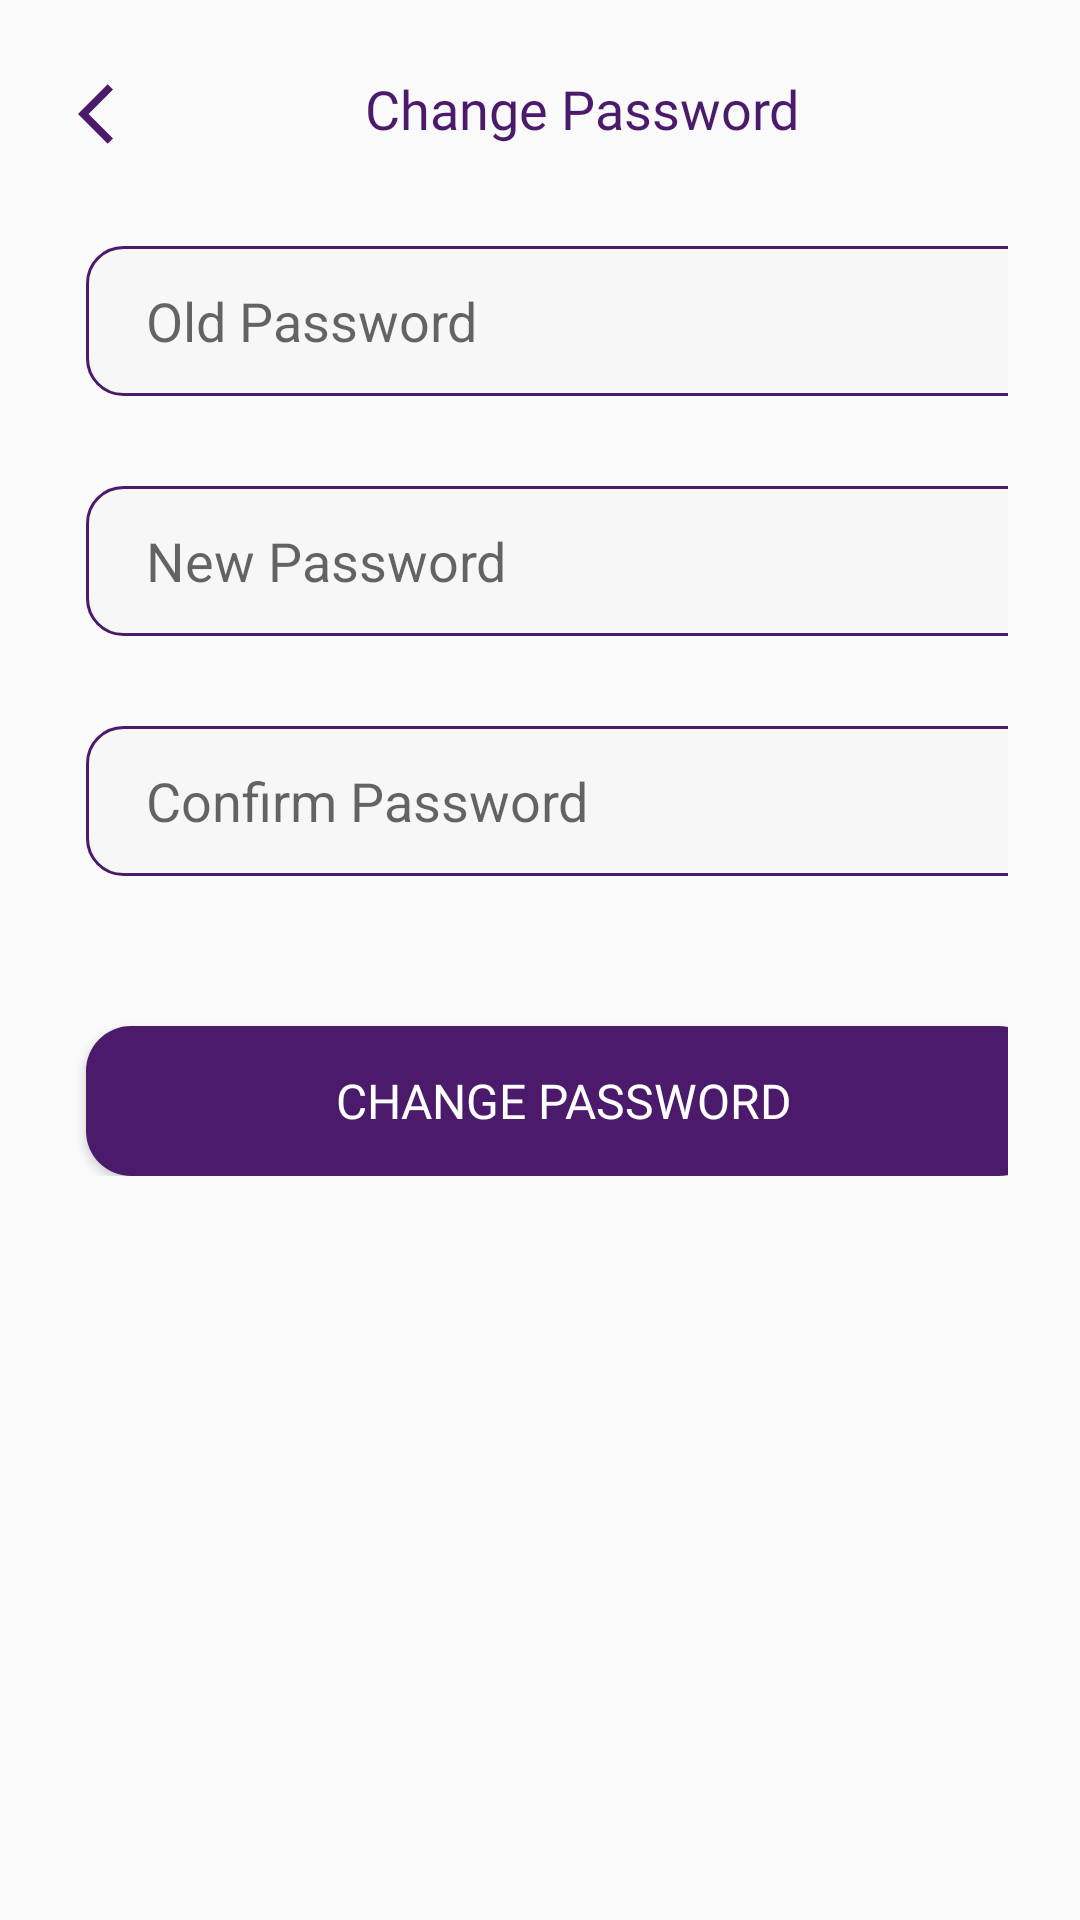

Named icons in this screenshot (1080 × 1920) and their centers, (x,y):
back arrow: (95,114)
